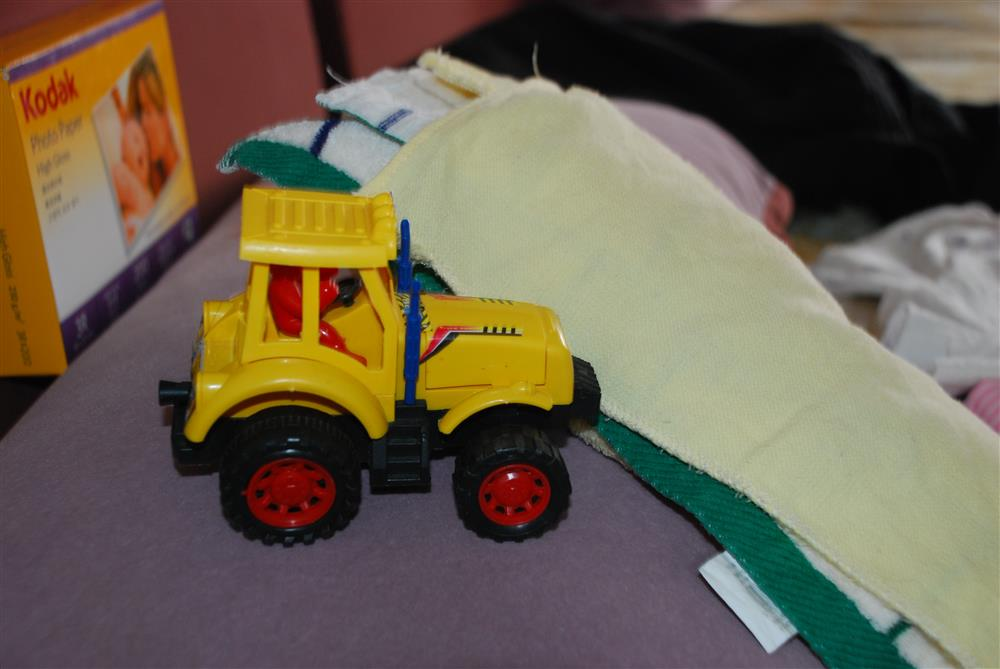toy_jeep: (151, 186, 597, 550)
